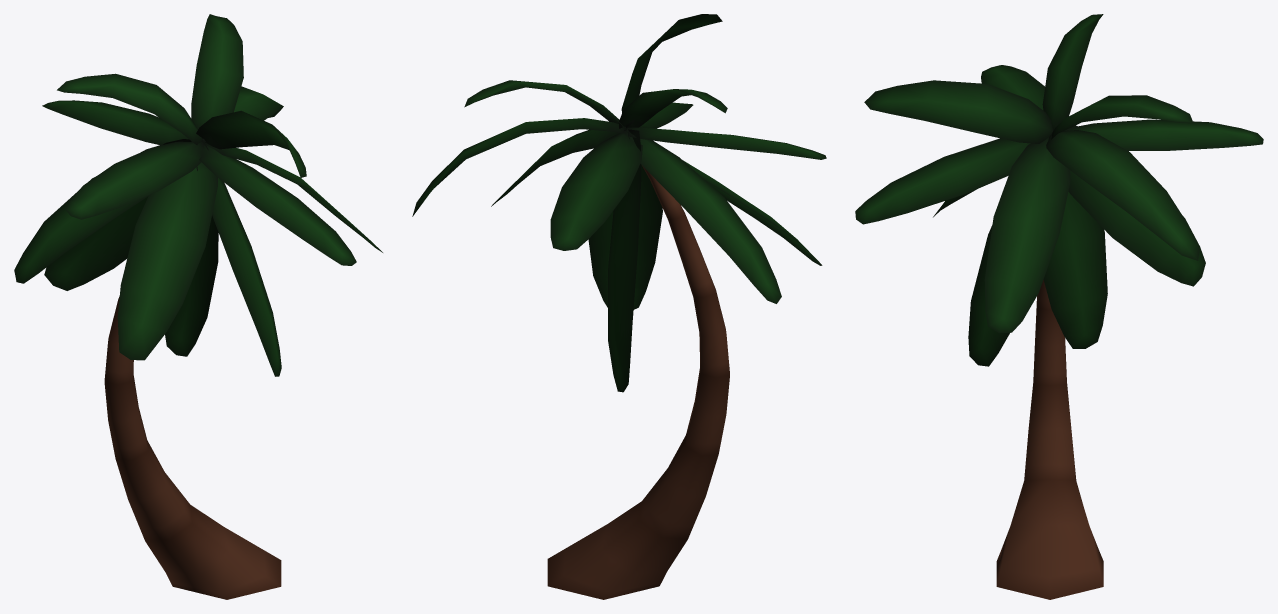
Rendered from Tree_2_v2.fbx.
The picture shows the model from 3 angles, left to right: view 1: azimuth 30°, elevation 25°; view 2: azimuth 150°, elevation 25°; view 3: azimuth 270°, elevation 25°; orthographic projection. The views are drawn at different scales.
Visible parts, largest first — view 1: Tree_2_v2; view 2: Tree_2_v2; view 3: Tree_2_v2.
Part boxes in pixels (box(x1,y1,x2,y2)): Tree_2_v2: box(14, 14, 382, 599); Tree_2_v2: box(412, 14, 826, 599); Tree_2_v2: box(855, 14, 1263, 599).
Size of the model in its own units: 288 by 438 by 325.
